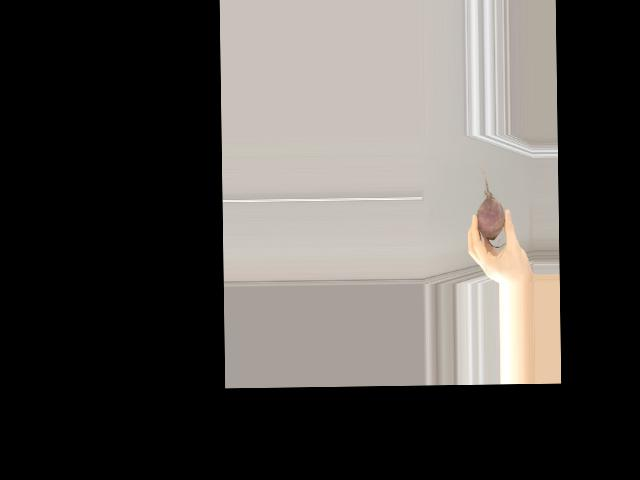beet: (476, 159, 506, 247)
